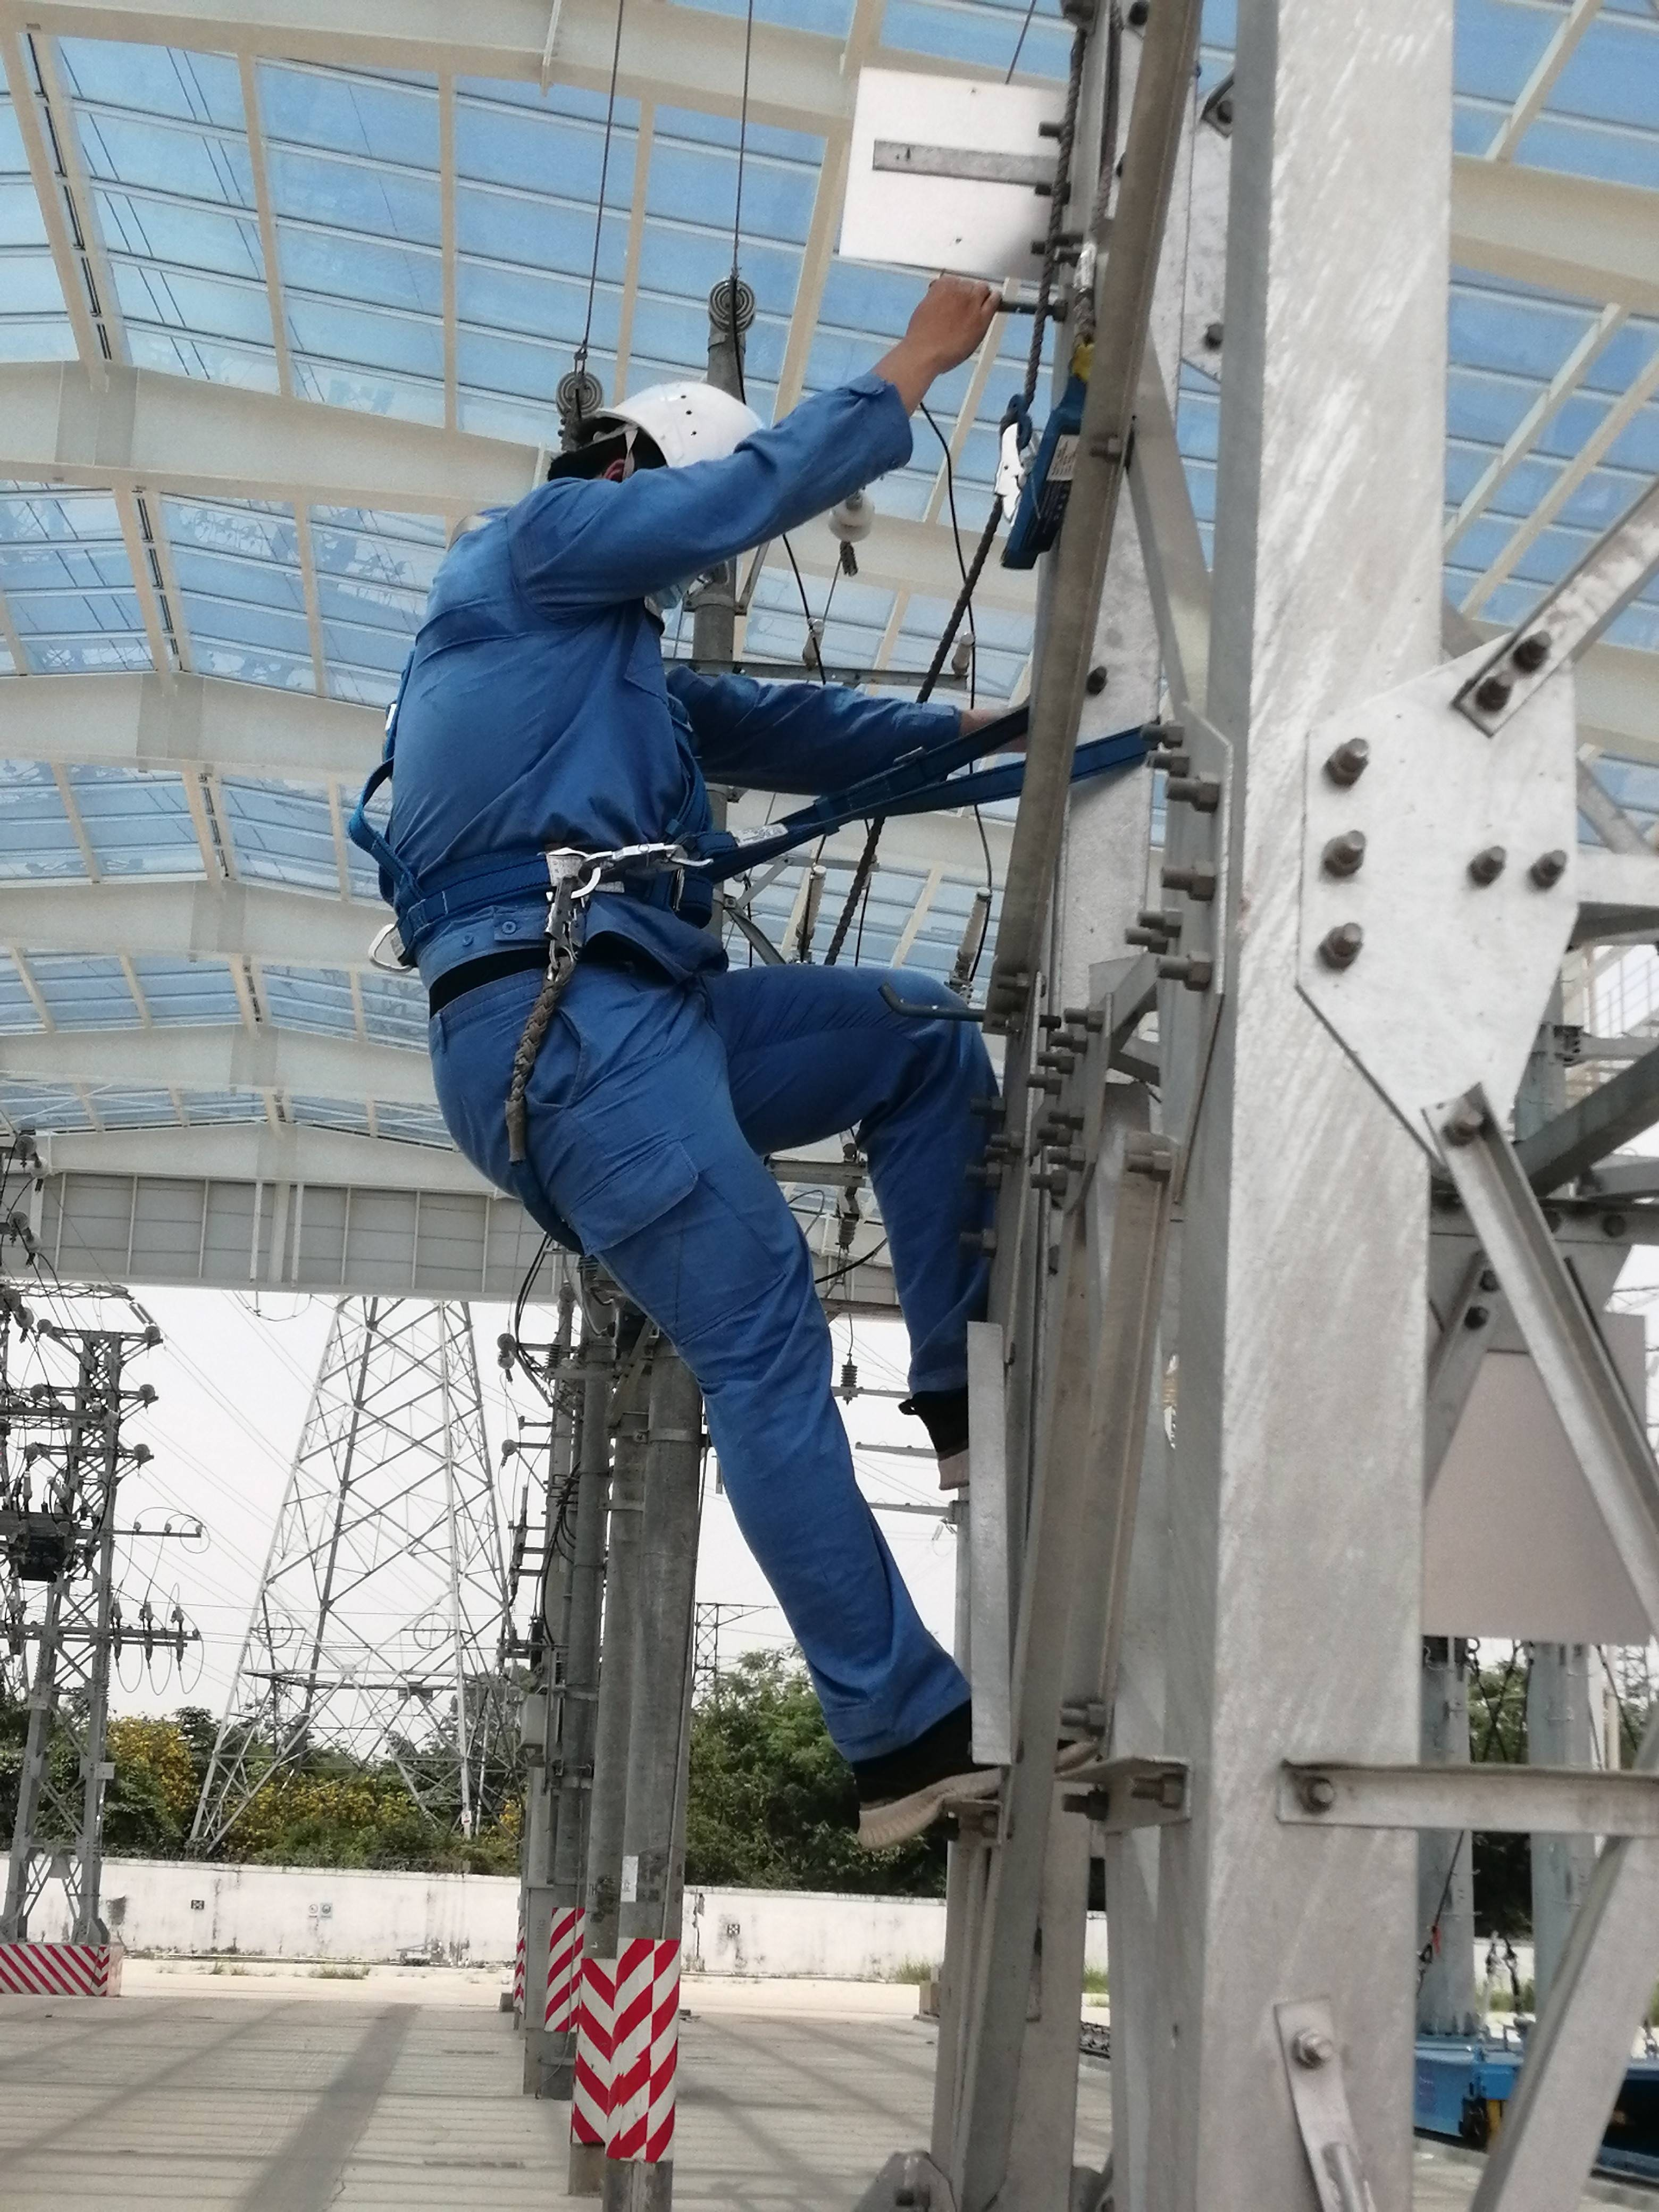downsuit: (415, 968, 1014, 1743)
upsuit: (378, 383, 932, 958)
